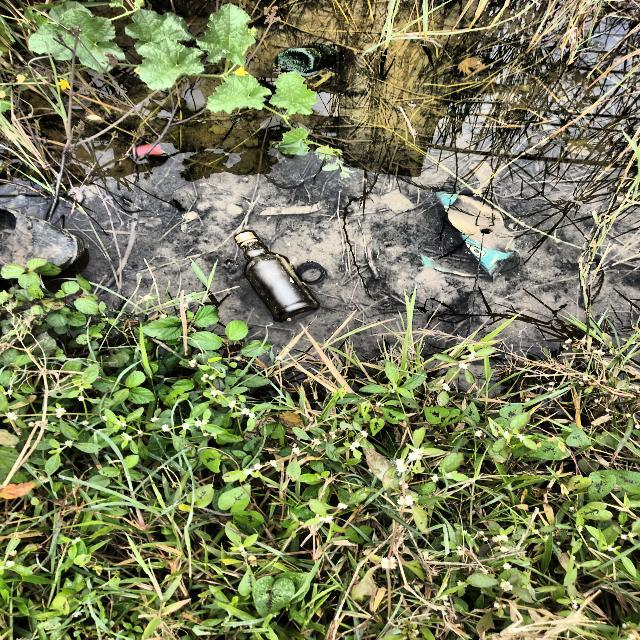anorganik: (234, 230, 321, 324), (437, 191, 517, 277), (0, 207, 87, 278), (276, 43, 342, 77)
